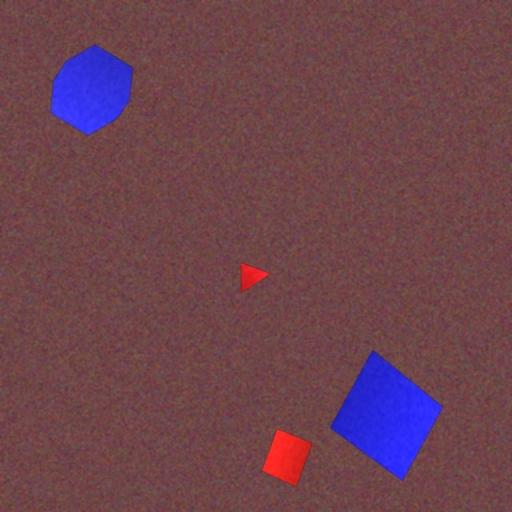BLUE_SQUARE: (329, 348, 444, 482)
RED_SQUARE: (262, 428, 314, 488)
